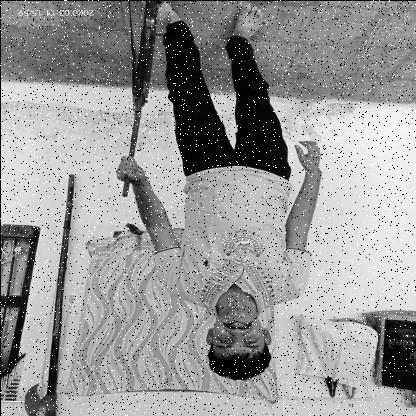rifle: (119, 0, 166, 198)
